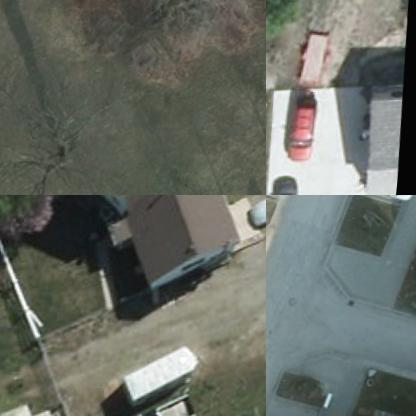camping car: (124, 348, 209, 413)
car: (286, 93, 318, 168), (356, 195, 415, 210), (266, 178, 297, 194)
pickup: (117, 394, 202, 415)
